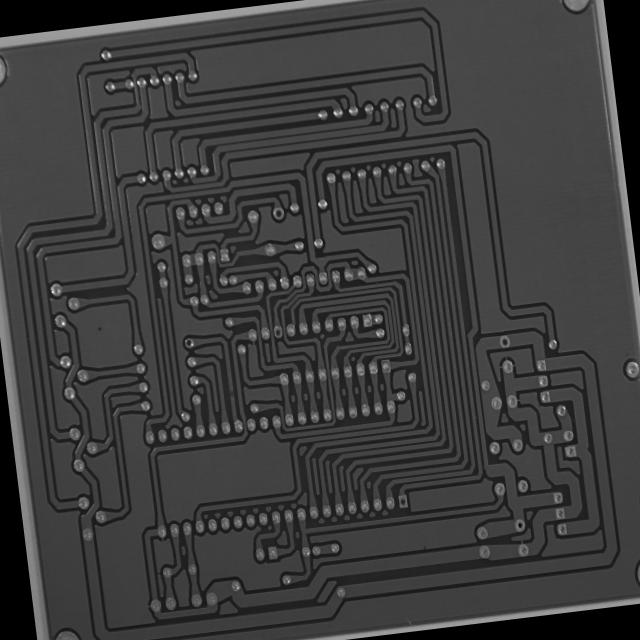missing_hole: (270, 204, 288, 222), (395, 492, 410, 511), (497, 331, 512, 349), (181, 334, 195, 350), (271, 324, 284, 341)
